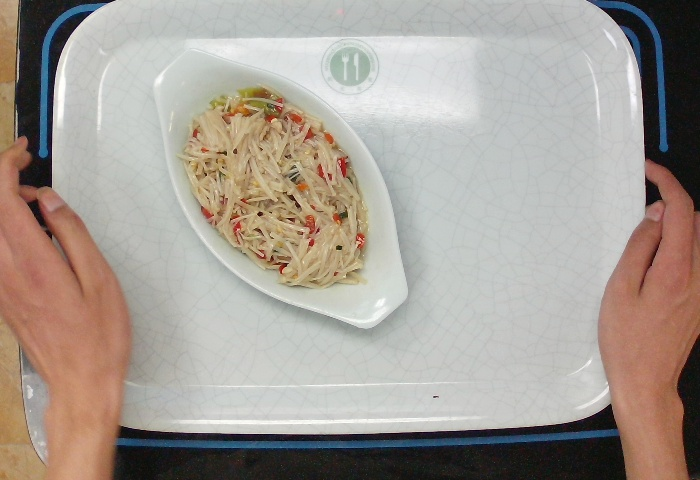JYsf-Yu_Pan: (147, 44, 412, 334)
